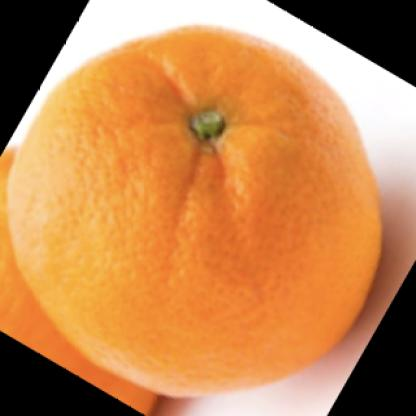fresh: (13, 23, 382, 390)
